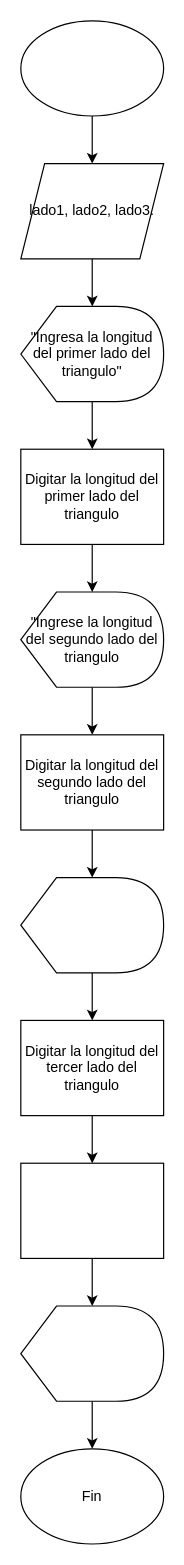
This 184x1565 diagram has some shape labels left out. Here are the shapes that lost their labels. From the top down, the centre of each, then its label:
the point at 92,68: Inicio
the point at 92,924: "Ingresa la longitud del tercer lado del triangulo"
the point at 92,1210: Se hace calculo en base a la formula √p(p­a)(p­b)(p­c) = n donde p = (a+b+c) / 2
the point at 92,1353: "El área del triangulo es: n"
